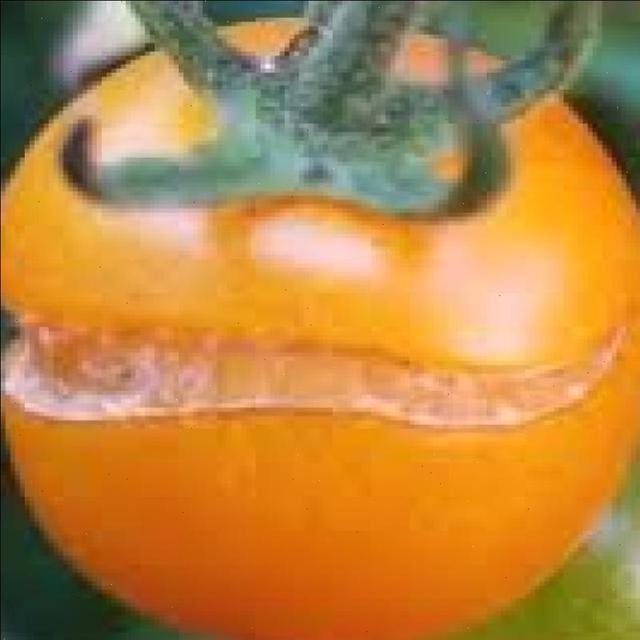Cracking Fruit: (1, 184, 427, 286)
